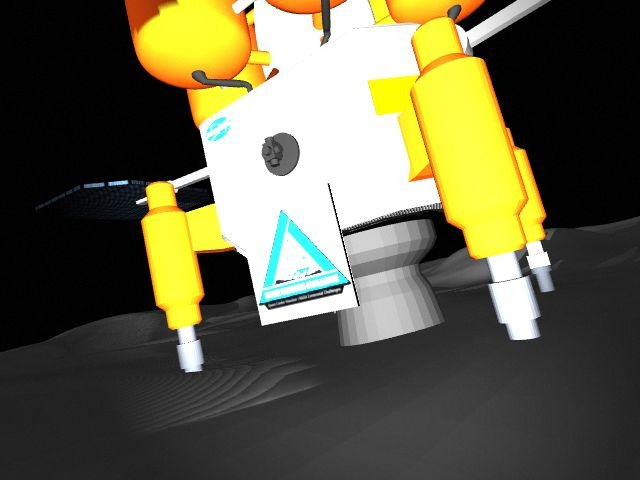basemarker: (258, 210, 352, 310)
